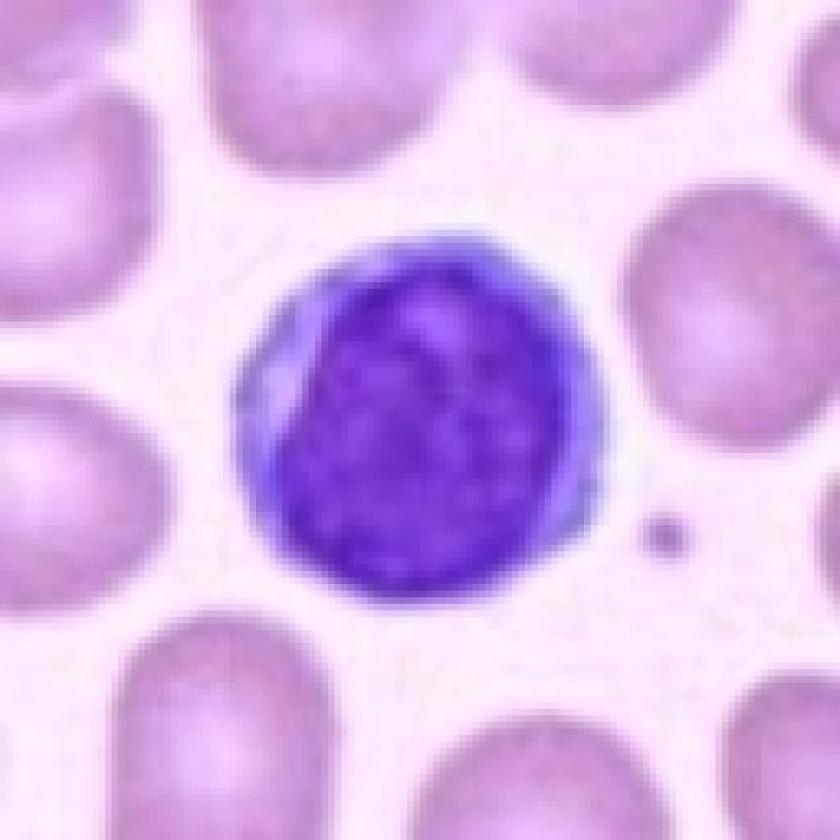lymphocyte: (224, 222, 623, 616)
